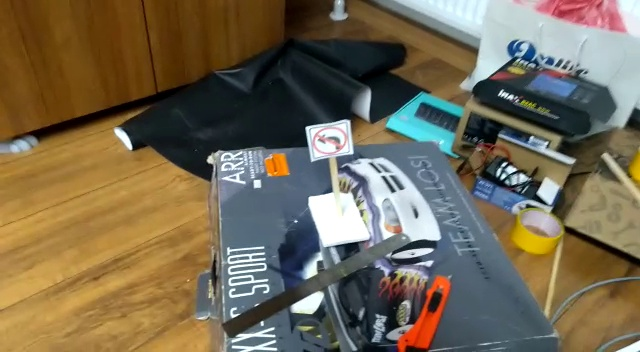sola_donulmez: (310, 124, 349, 159)
